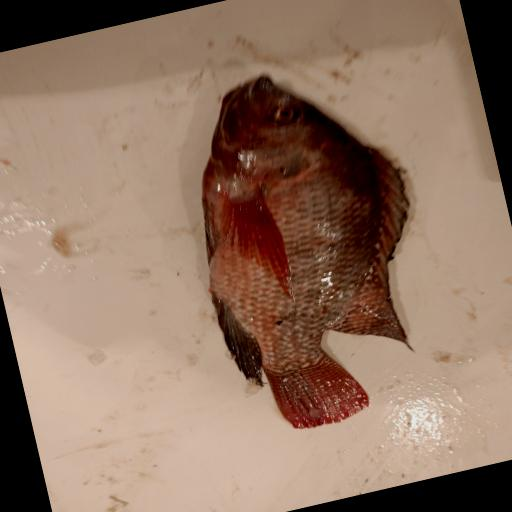Tilapia: (164, 48, 459, 445)
